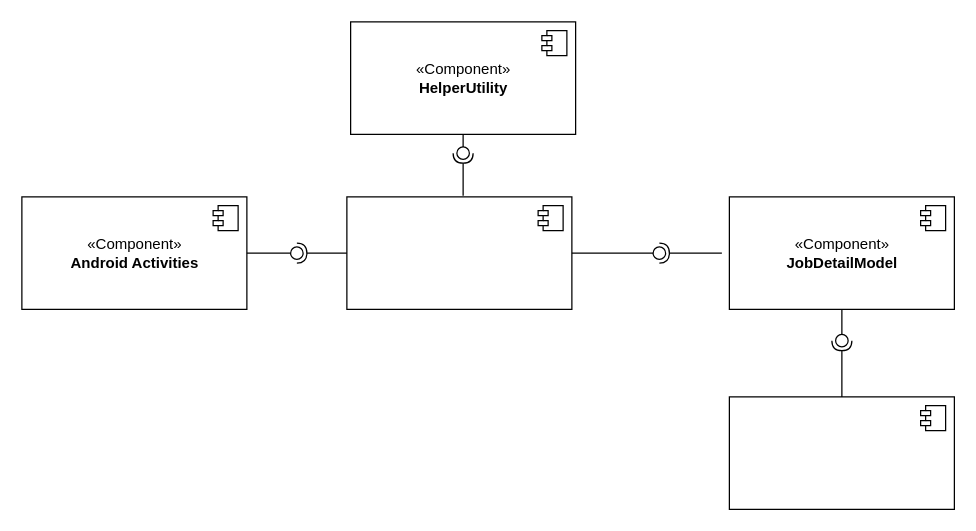
The diagram is 976 pixels wide and 531 high, and some of its shapes have lost their labels. The shapes that lost their labels are listed below. From the top down, each one's centre as x and y in pixels, then its label:
(x=459, y=252): «Component» ComparisionManager
(x=841, y=452): «Component» ComparisionSettings
